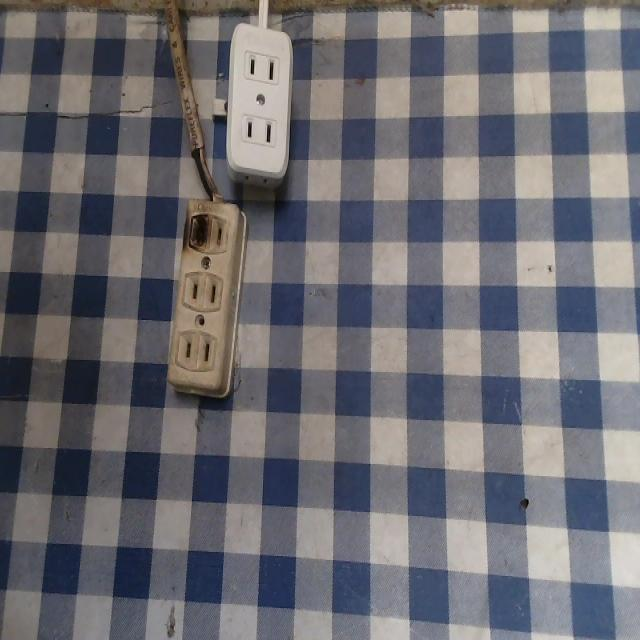-: (185, 203, 214, 257)
